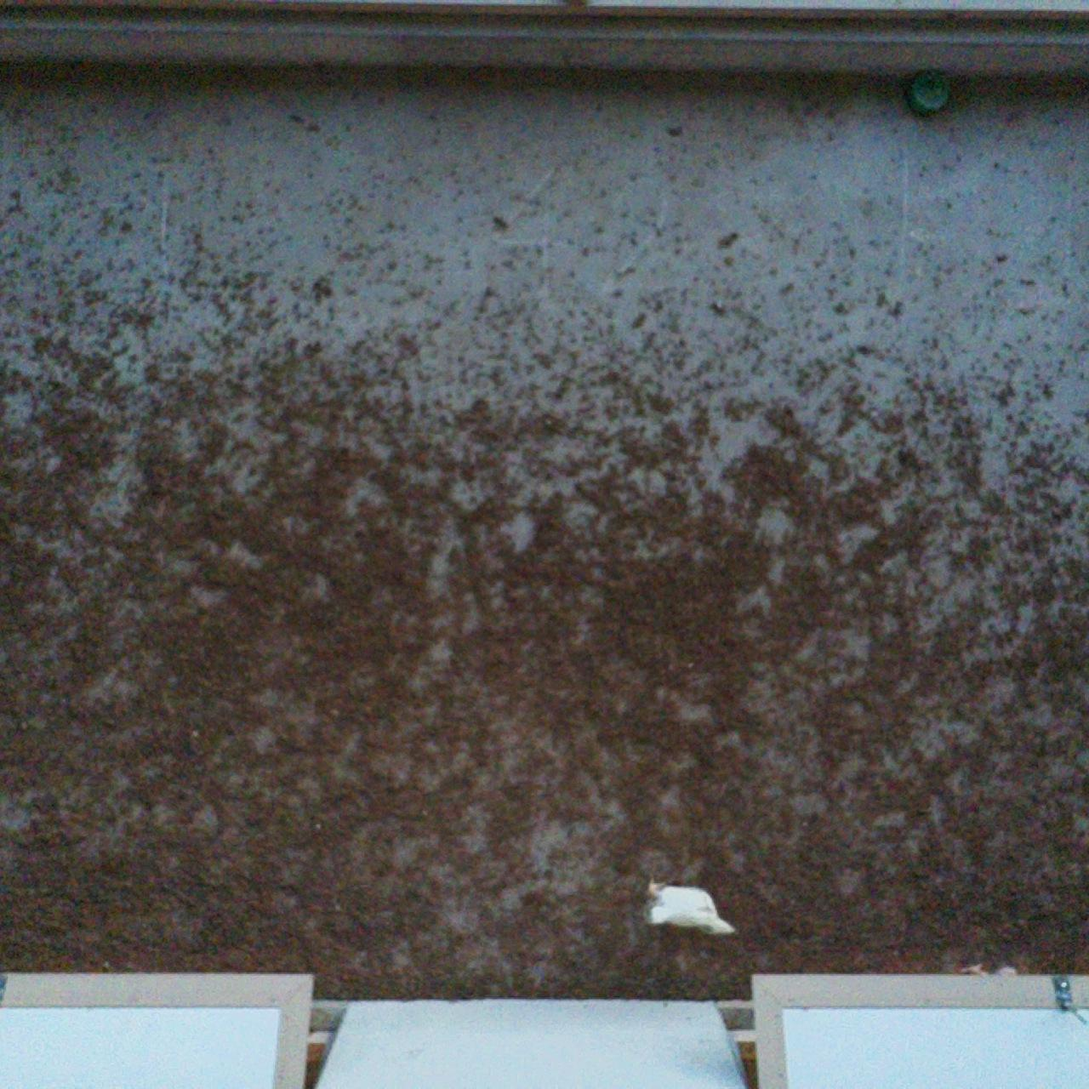chicken: (643, 876, 738, 937)
